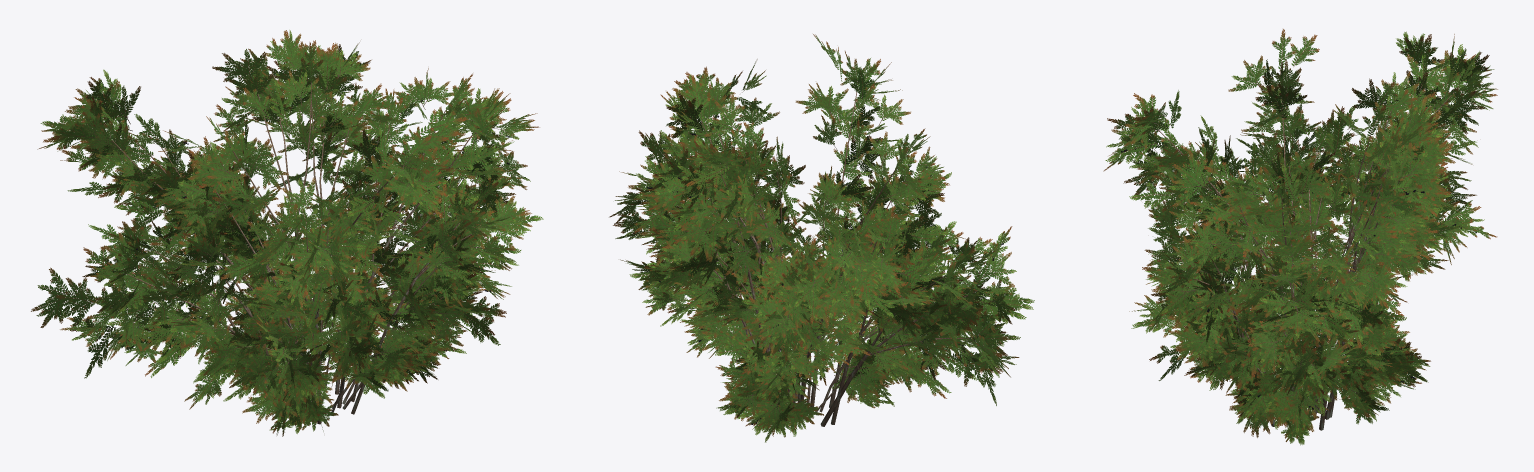
The model's file is evergreen_huckleberry.glb.
3 views of the same model, side by side, from view 1: azimuth 30°, elevation 25°; view 2: azimuth 150°, elevation 25°; view 3: azimuth 270°, elevation 25° (orthographic). The views are drawn at different scales.
Visible parts, largest first — view 1: huckleberry_c_lod0, huckleberry_b_lod0, huckleberry_a_lod0; view 2: huckleberry_c_lod0, huckleberry_b_lod0, huckleberry_a_lod0; view 3: huckleberry_c_lod0, huckleberry_b_lod0, huckleberry_a_lod0.
Part boxes in pixels (x1,y1,x2,y2): huckleberry_c_lod0: (31,30,543,424); huckleberry_b_lod0: (153,130,511,423); huckleberry_a_lod0: (223,249,441,436); huckleberry_c_lod0: (609,34,1034,426); huckleberry_b_lod0: (620,166,1007,420); huckleberry_a_lod0: (715,265,928,442); huckleberry_c_lod0: (1103,29,1497,430); huckleberry_b_lod0: (1129,135,1497,433); huckleberry_a_lod0: (1205,258,1430,445).
Size of what is drawn, in the model's own units: 4.41 by 3.06 by 3.41.
Materials: 3 (2 with a texture image).
